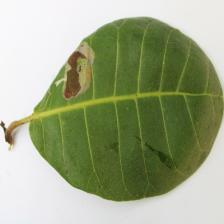leaf miner: (59, 35, 95, 106)
